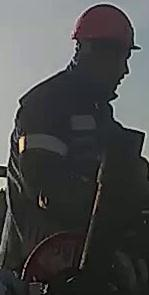helmet: (70, 3, 143, 60)
vest: (5, 87, 124, 261)
